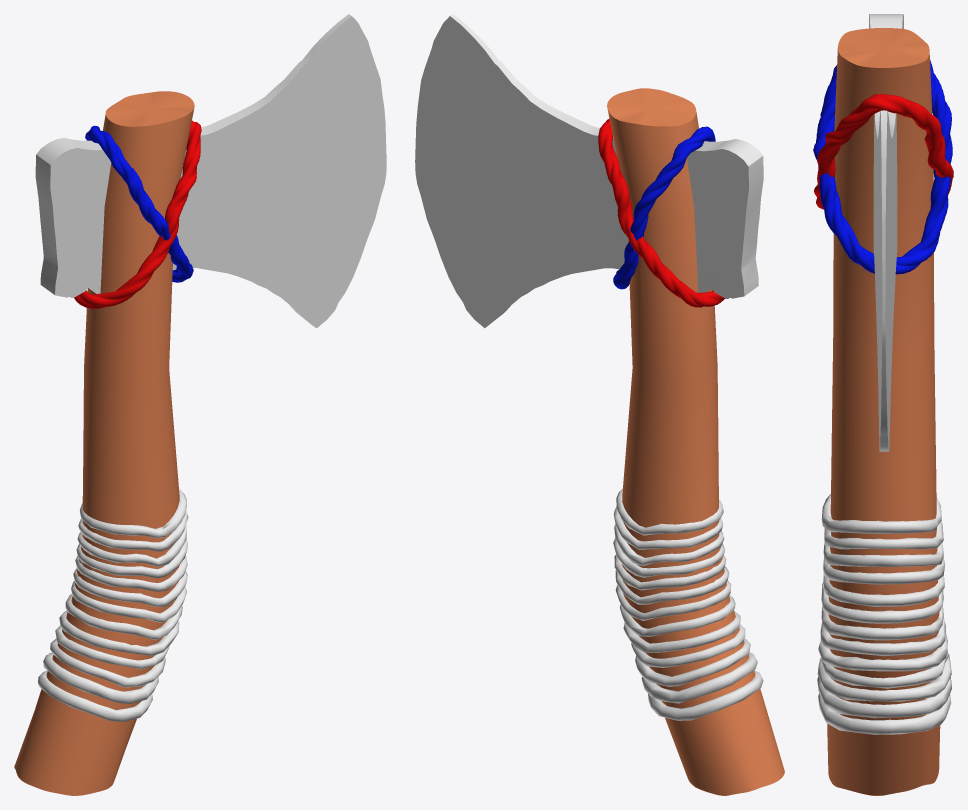
The model's file is Axe Model.fbx.
3 views of the same model, side by side, from view 1: azimuth 30°, elevation 25°; view 2: azimuth 150°, elevation 25°; view 3: azimuth 270°, elevation 25° (orthographic). The views are drawn at different scales.
Visible parts, largest first — view 1: Axe blade, handle, Circle1, Circle2, Circle.011, Circle.012, Circle.008, Circle, Circle.010, Circle.007, Circle.006, Circle.005 (+5 smaller); view 2: Axe blade, handle, Circle1, Circle2, Circle.012, Circle.011, Circle.010, Circle.008, Circle.007, Circle.009, Circle, Circle.006 (+5 smaller); view 3: handle, Axe blade, Circle2, Circle1, Circle.012, Circle.011, Circle.010, Circle, Circle.008, Circle.007, Circle.005, Circle.006 (+5 smaller).
Part boxes in pixels (<box>): Axe blade: <box>35,14,386,328</box>; handle: <box>14,91,194,795</box>; Circle1: <box>74,120,201,308</box>; Circle2: <box>85,125,193,282</box>; Circle.011: <box>43,653,158,703</box>; Circle.012: <box>38,670,152,721</box>; Circle.008: <box>59,610,179,656</box>; Circle: <box>79,489,187,538</box>; Circle.010: <box>50,638,165,687</box>; Circle.007: <box>65,594,182,640</box>; Circle.006: <box>71,581,186,622</box>; Circle.005: <box>73,568,187,606</box>; Axe blade: <box>415,14,763,328</box>; handle: <box>607,88,784,795</box>; Circle1: <box>598,118,724,307</box>; Circle2: <box>613,126,715,289</box>; Circle.012: <box>648,671,763,720</box>; Circle.011: <box>641,652,757,703</box>; Circle.010: <box>635,639,750,686</box>; Circle.008: <box>623,611,740,652</box>; Circle.007: <box>620,595,735,636</box>; Circle.009: <box>631,624,745,667</box>; Circle: <box>616,488,723,535</box>; Circle.006: <box>615,580,731,620</box>; handle: <box>827,28,940,795</box>; Axe blade: <box>869,14,903,451</box>; Circle2: <box>813,60,952,274</box>; Circle1: <box>814,93,953,209</box>; Circle.012: <box>818,693,951,734</box>; Circle.011: <box>817,676,951,718</box>; Circle.010: <box>817,653,951,701</box>; Circle: <box>821,494,941,533</box>; Circle.008: <box>818,632,947,671</box>; Circle.007: <box>820,618,945,656</box>; Circle.005: <box>821,582,943,623</box>; Circle.006: <box>821,604,943,640</box>.
Size of the model in its own units: 881 by 1605 by 247.
